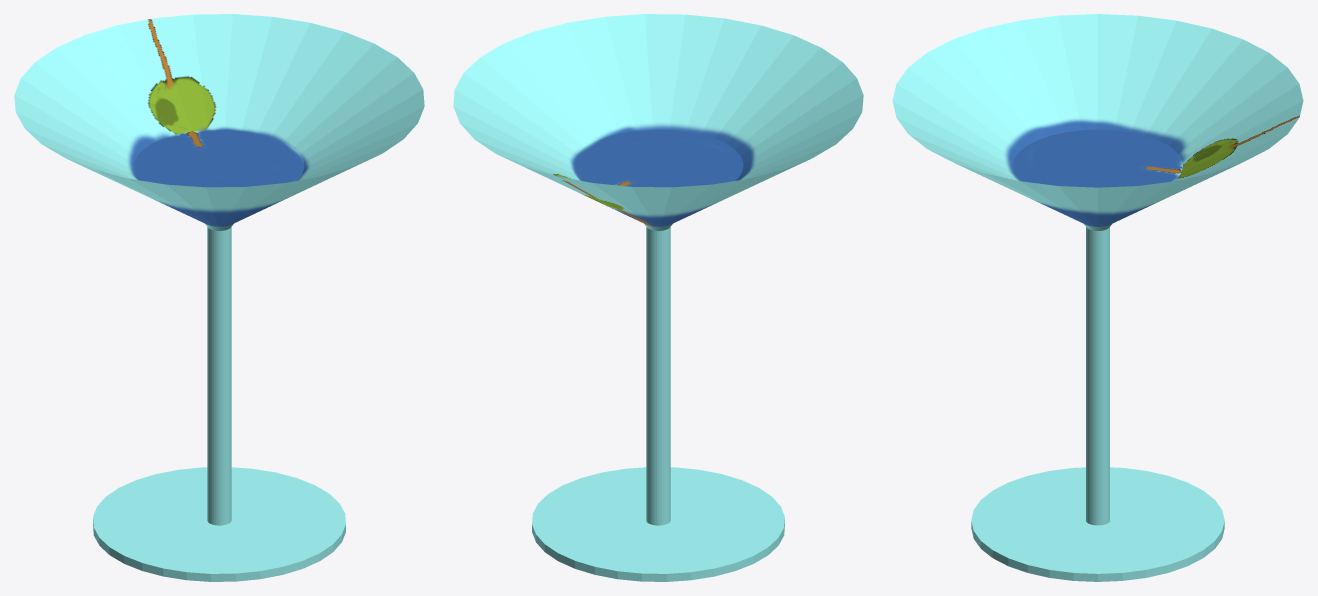
Rendered from martini.glb.
3 renders of one model, left to right at view 1: azimuth 30°, elevation 25°; view 2: azimuth 150°, elevation 25°; view 3: azimuth 270°, elevation 25°, orthographic.
Visible parts, largest first — view 1: Cylinder; view 2: Cylinder; view 3: Cylinder.
Part boxes in pixels (box(x1,y1,x2,y2)): Cylinder: box(14, 14, 424, 581); Cylinder: box(453, 14, 863, 581); Cylinder: box(892, 14, 1303, 581).
Size of the model in its own units: 0.5983 by 0.6869 by 0.5983.
1 material, 1 textured.
